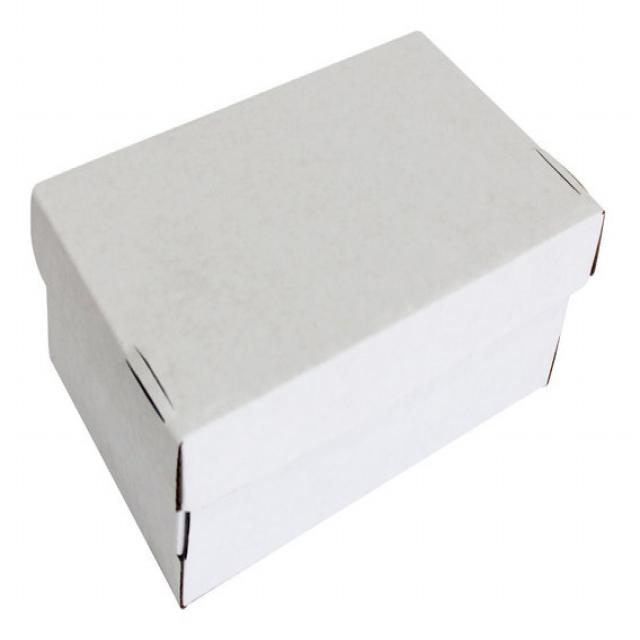Carton: (33, 22, 606, 607)
